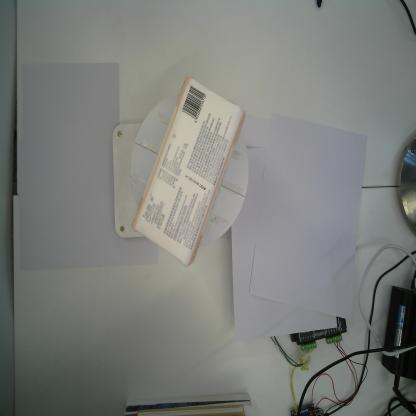Tissue: (132, 76, 246, 266)
